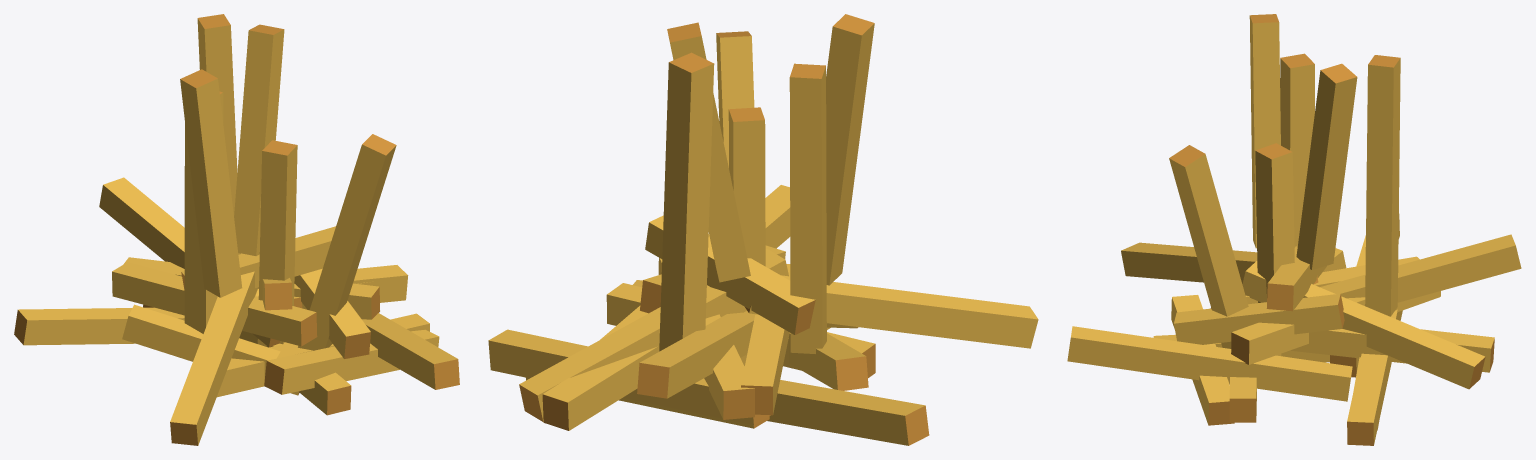
The model's file is food_fries.glb.
The picture shows the model from 3 angles, left to right: view 1: azimuth 30°, elevation 25°; view 2: azimuth 150°, elevation 25°; view 3: azimuth 270°, elevation 25°; orthographic projection. The views are drawn at different scales.
Visible parts, largest first — view 1: food_fries; view 2: food_fries; view 3: food_fries.
Boxes of the visible parts, x1,y1,x2,y2 form: food_fries: (14,14,459,445); food_fries: (488,14,1038,445); food_fries: (1067,14,1521,445).
Bounding box in the file's own units: 0.1266 × 0.102 × 0.1361.
